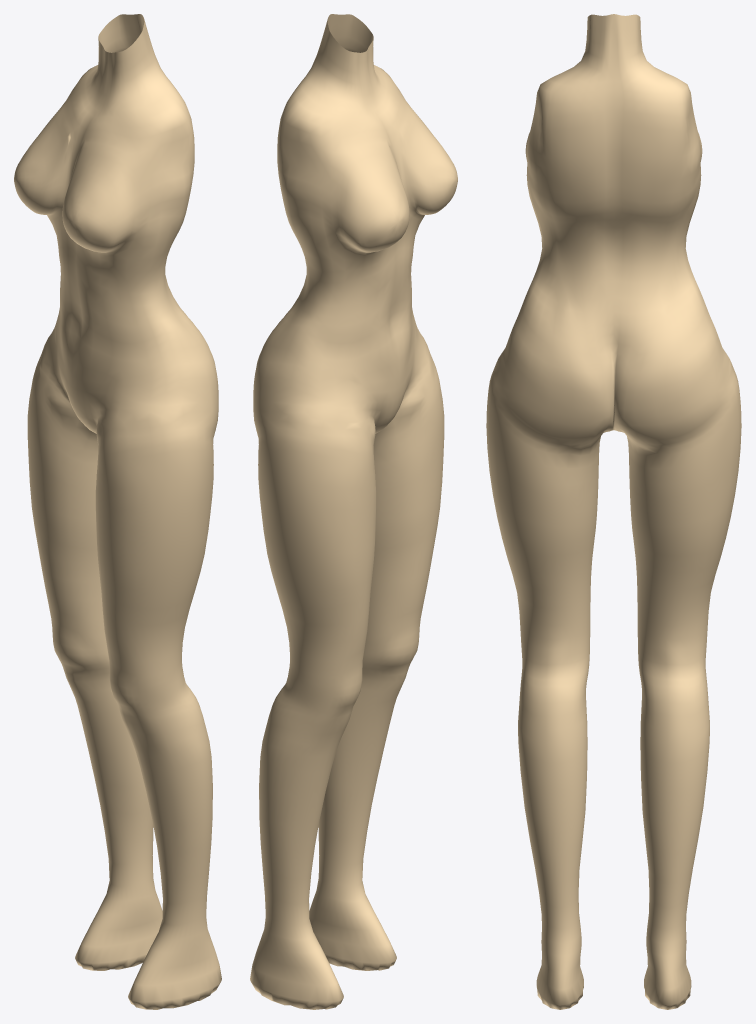
The picture shows the model from 3 angles, left to right: view 1: azimuth 30°, elevation 25°; view 2: azimuth 150°, elevation 25°; view 3: azimuth 270°, elevation 25°; orthographic projection.
Visible parts, largest first — view 1: Cylinder001; view 2: Cylinder001; view 3: Cylinder001.
Part boxes in pixels (x1,y1,x2,y2): Cylinder001: [14, 14, 221, 1009]; Cylinder001: [250, 14, 457, 1009]; Cylinder001: [486, 14, 741, 1009].
Bounding box in the file's own units: 58.34 × 84.86 × 359.
